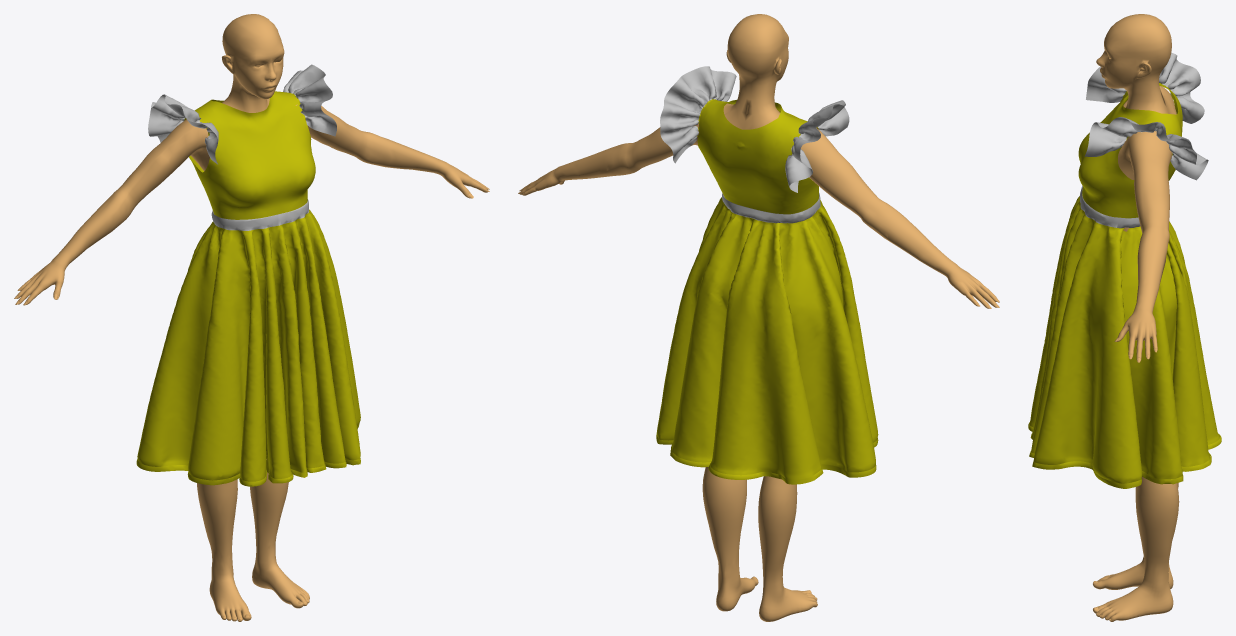
Rendered from dress10.glb.
3 views of the same model, side by side, from view 1: azimuth 30°, elevation 25°; view 2: azimuth 150°, elevation 25°; view 3: azimuth 270°, elevation 25° (orthographic).
Parts seen in each view (by area): view 1: PinkDrees#14 (OBJ), Body; view 2: PinkDrees#14 (OBJ), Body; view 3: PinkDrees#14 (OBJ), Body.
Boxes of the visible parts, <box> form: PinkDrees#14 (OBJ): <box>136,64,360,486</box>; Body: <box>16,14,489,621</box>; PinkDrees#14 (OBJ): <box>656,66,878,484</box>; Body: <box>519,14,996,621</box>; PinkDrees#14 (OBJ): <box>1028,52,1221,488</box>; Body: <box>1093,14,1179,621</box>.
Size of the model in its own units: 1.58 by 1.85 by 0.5546.
